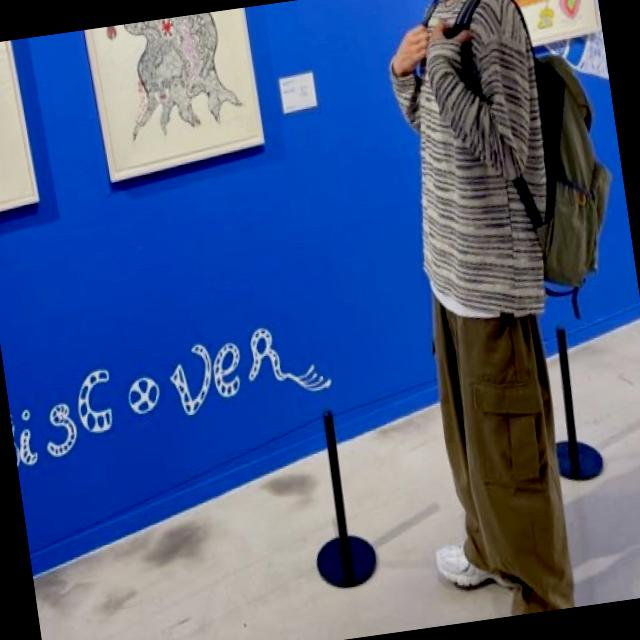cottonpants: (423, 276, 582, 622)
longsleeve: (379, 0, 569, 331)
